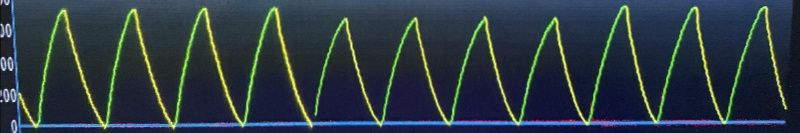normal_volume: (21, 0, 800, 132)
